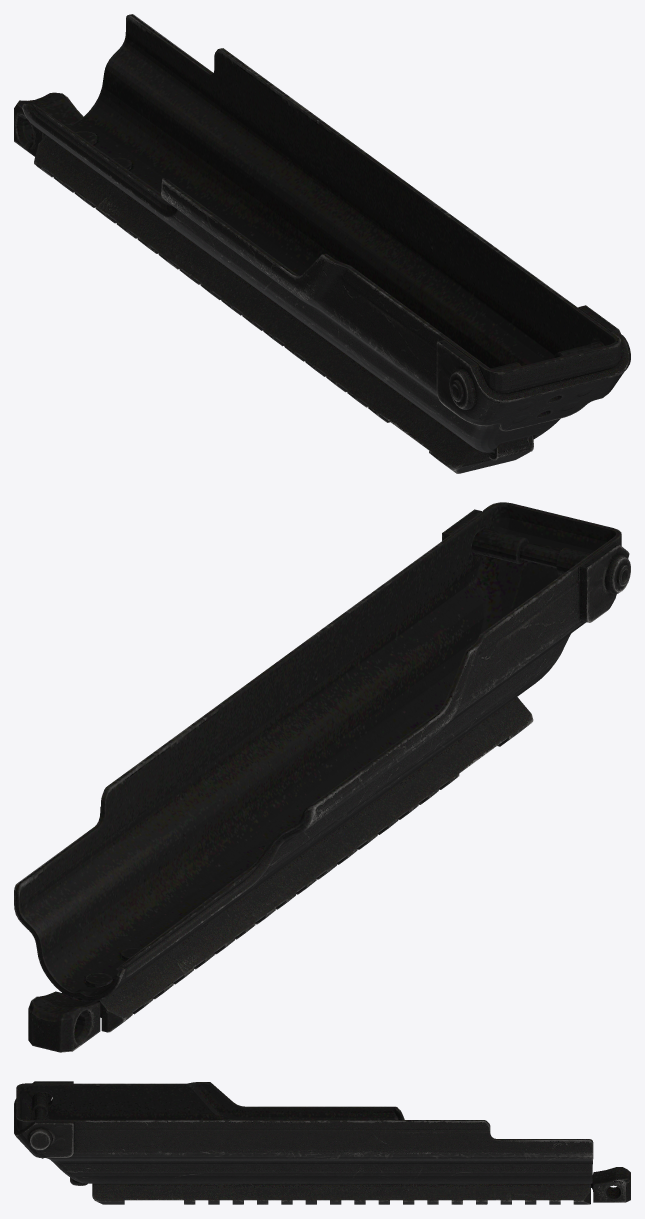
The picture shows the model from 3 angles, top to bottom: view 1: azimuth 30°, elevation 25°; view 2: azimuth 150°, elevation 25°; view 3: azimuth 270°, elevation 25°; orthographic projection. The views are drawn at different scales.
Visible parts, largest first — view 1: TW_649ec2f3961514b22506b111_PZ_Import; view 2: TW_649ec2f3961514b22506b111_PZ_Import; view 3: TW_649ec2f3961514b22506b111_PZ_Import.
Boxes of the visible parts, bbox=[...] form: TW_649ec2f3961514b22506b111_PZ_Import: bbox=[14, 14, 630, 473]; TW_649ec2f3961514b22506b111_PZ_Import: bbox=[14, 502, 630, 1052]; TW_649ec2f3961514b22506b111_PZ_Import: bbox=[14, 1081, 630, 1204].
Size of the model in its own units: 0.0266 by 0.1466 by 0.0249.
1 material, 1 textured.
